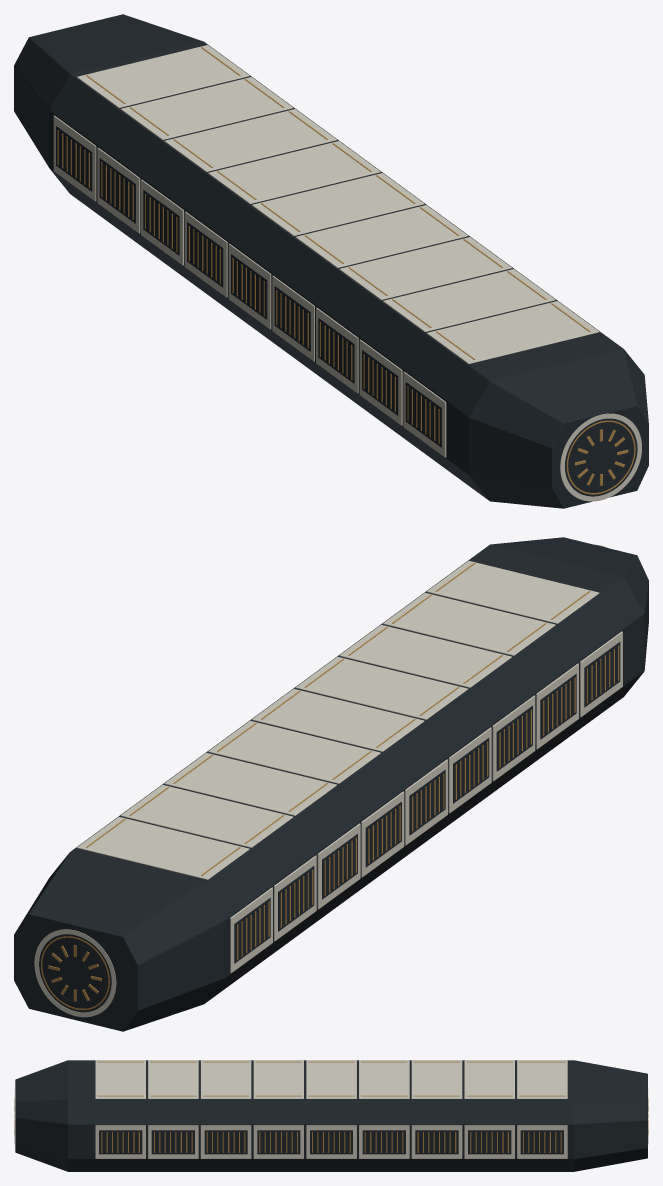
The model's file is SM_Aurelion_KIT_CarrierNacelle.fbx.
The picture shows the model from 3 angles, top to bottom: view 1: azimuth 30°, elevation 25°; view 2: azimuth 150°, elevation 25°; view 3: azimuth 270°, elevation 25°; orthographic projection. The views are drawn at different scales.
Visible parts, largest first — view 1: SM_Aurelion_KIT_CarrierNacelle; view 2: SM_Aurelion_KIT_CarrierNacelle; view 3: SM_Aurelion_KIT_CarrierNacelle.
Boxes of the visible parts, bbox=[...] form: SM_Aurelion_KIT_CarrierNacelle: bbox=[14, 14, 648, 508]; SM_Aurelion_KIT_CarrierNacelle: bbox=[14, 537, 648, 1031]; SM_Aurelion_KIT_CarrierNacelle: bbox=[14, 1060, 648, 1171].
Size of the model in its own units: 1190 by 6023 by 775.
